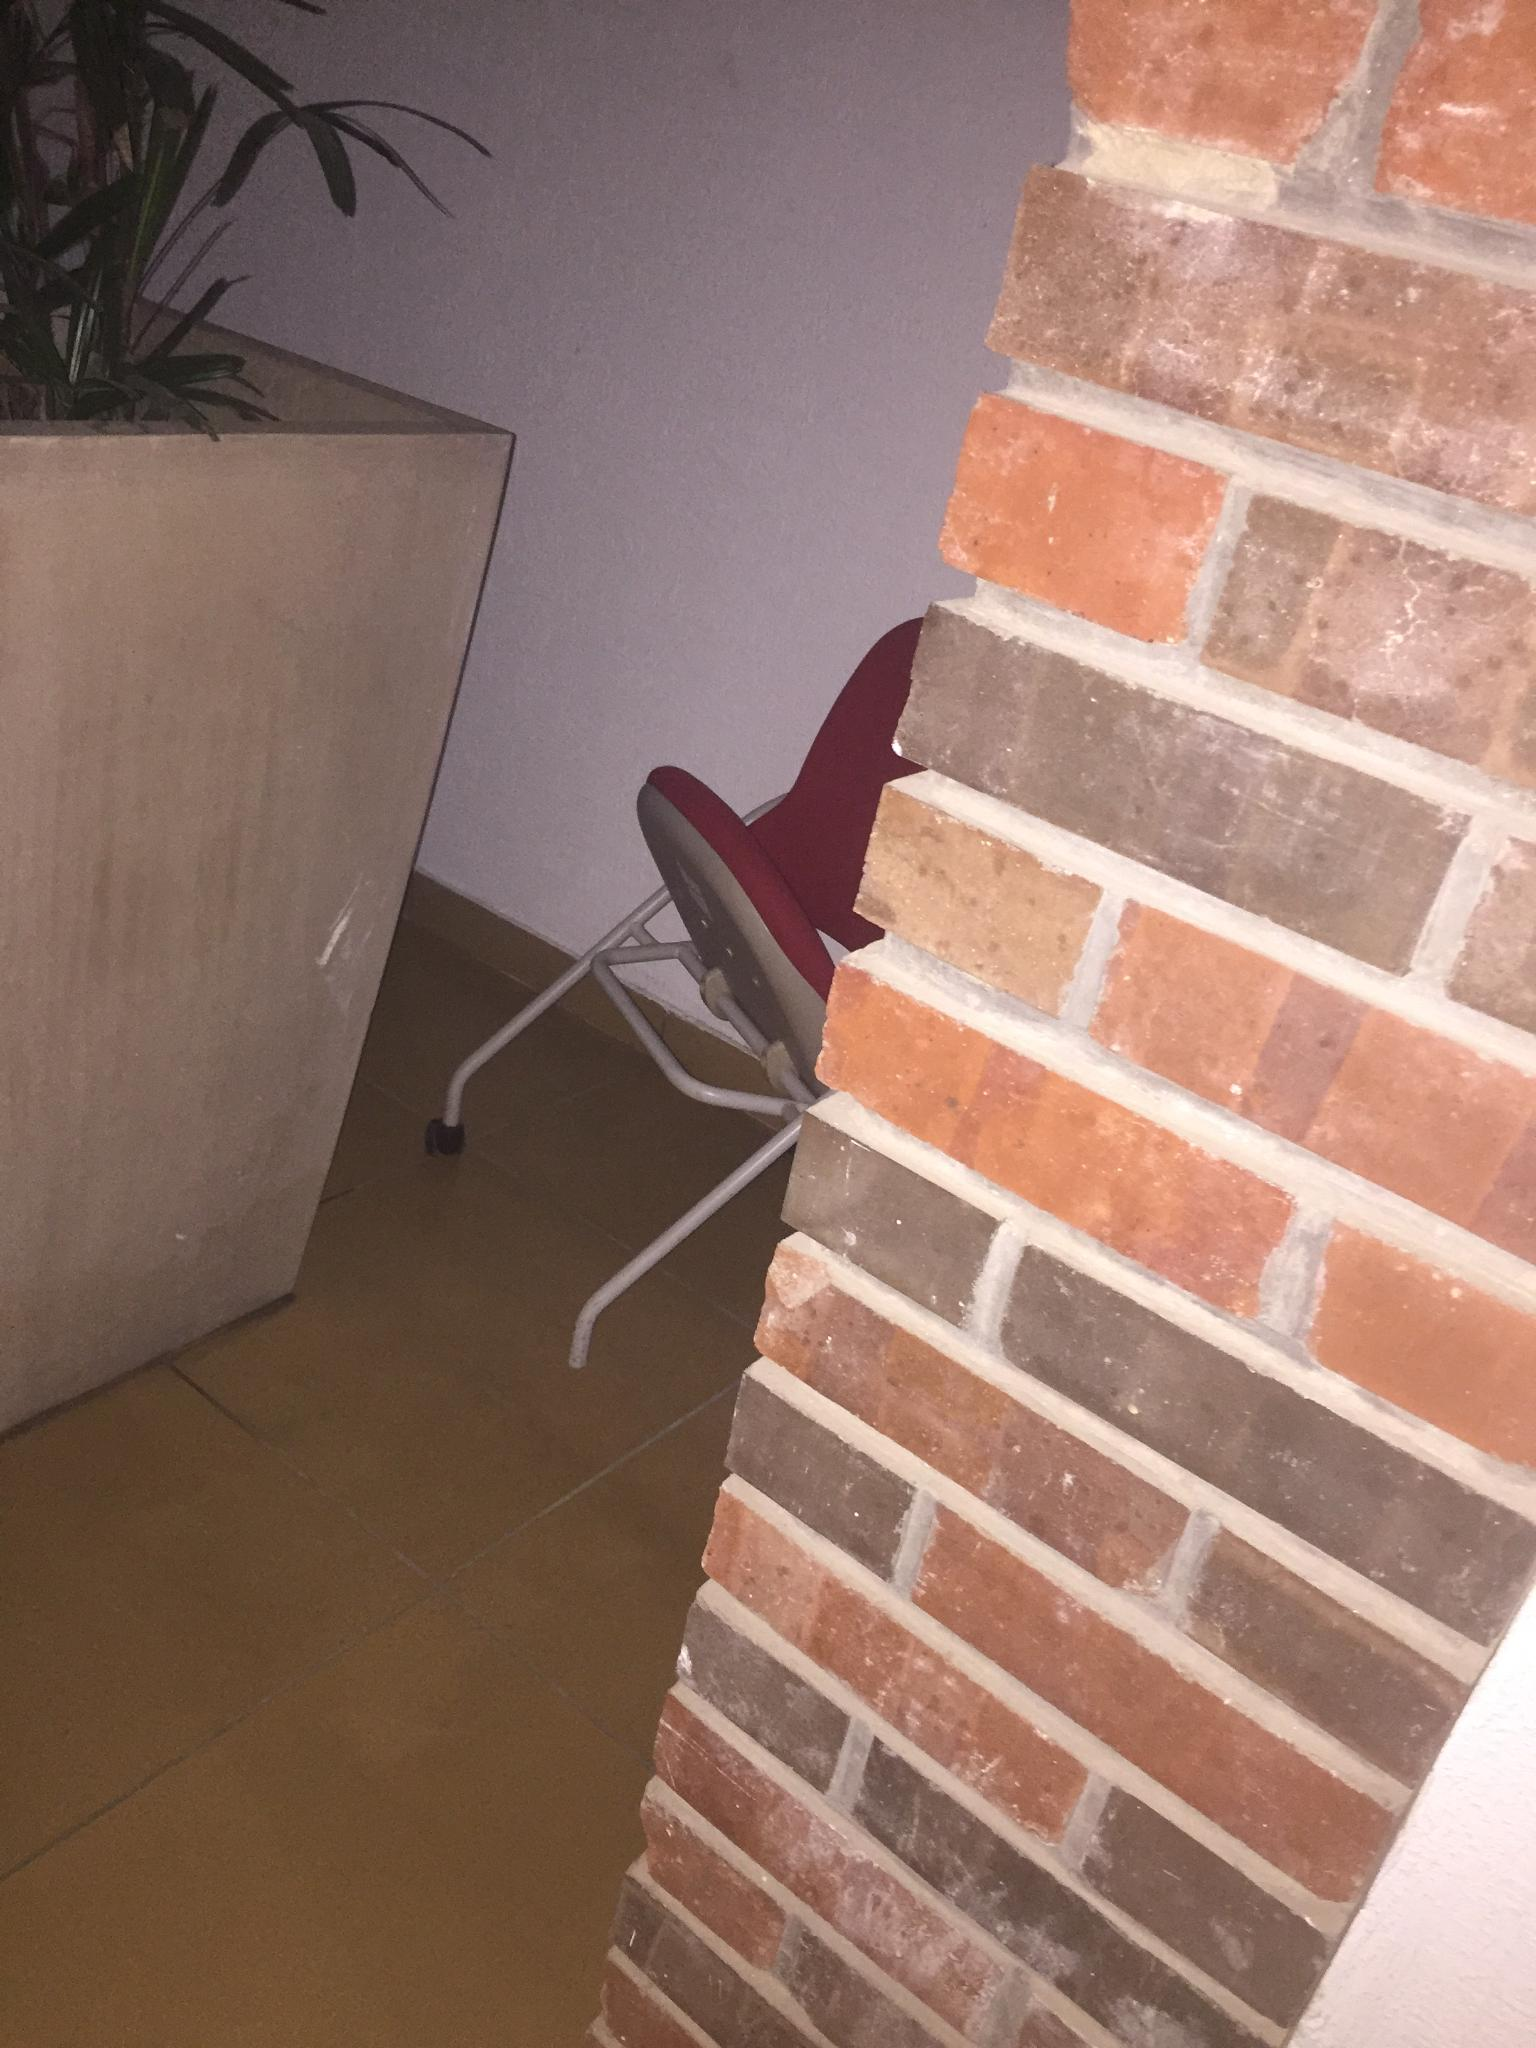chair: (424, 613, 929, 1369)
